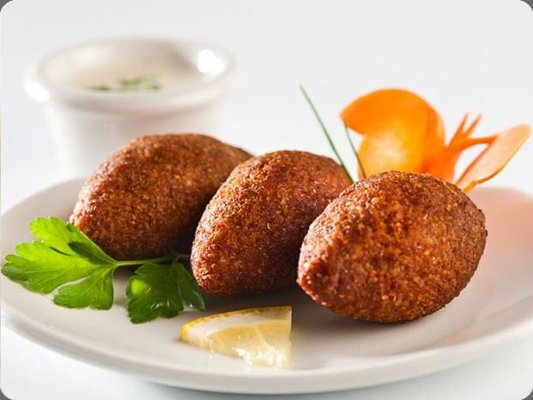soup: (67, 132, 252, 258)
sushi: (23, 34, 244, 175)
taco: (340, 86, 448, 178)
